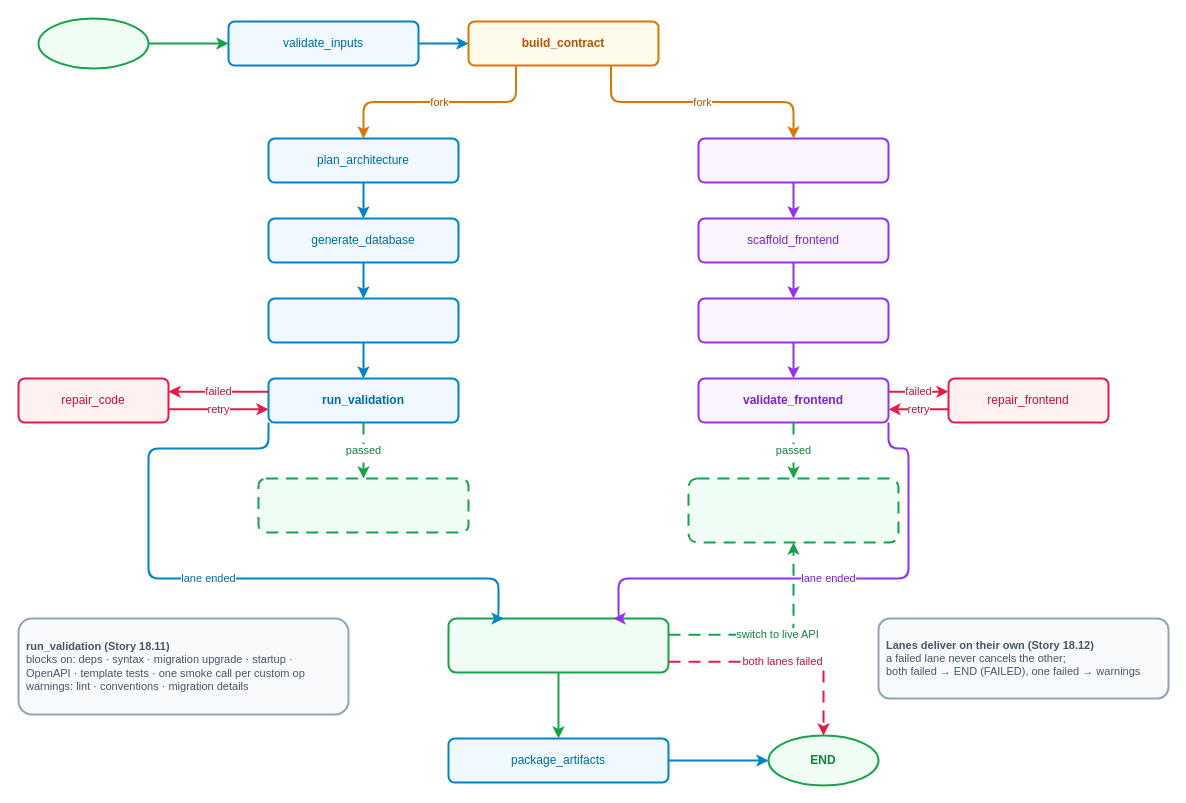
This 1186x803 diagram has some shape labels left out. The box of each missing label's shape, as (x1, y1, x2, y2) in pixels:
API preview starts when the backend passes: (257, 477, 469, 533)
generate_backend: (267, 297, 459, 343)
generate_frontend: (697, 297, 889, 343)
integrate after both lanes · in the background: (447, 617, 669, 673)
plan_frontend: (697, 137, 889, 183)
Site preview starts when the frontend passes (mock API until the switch): (687, 477, 899, 543)
START: (37, 17, 149, 69)
